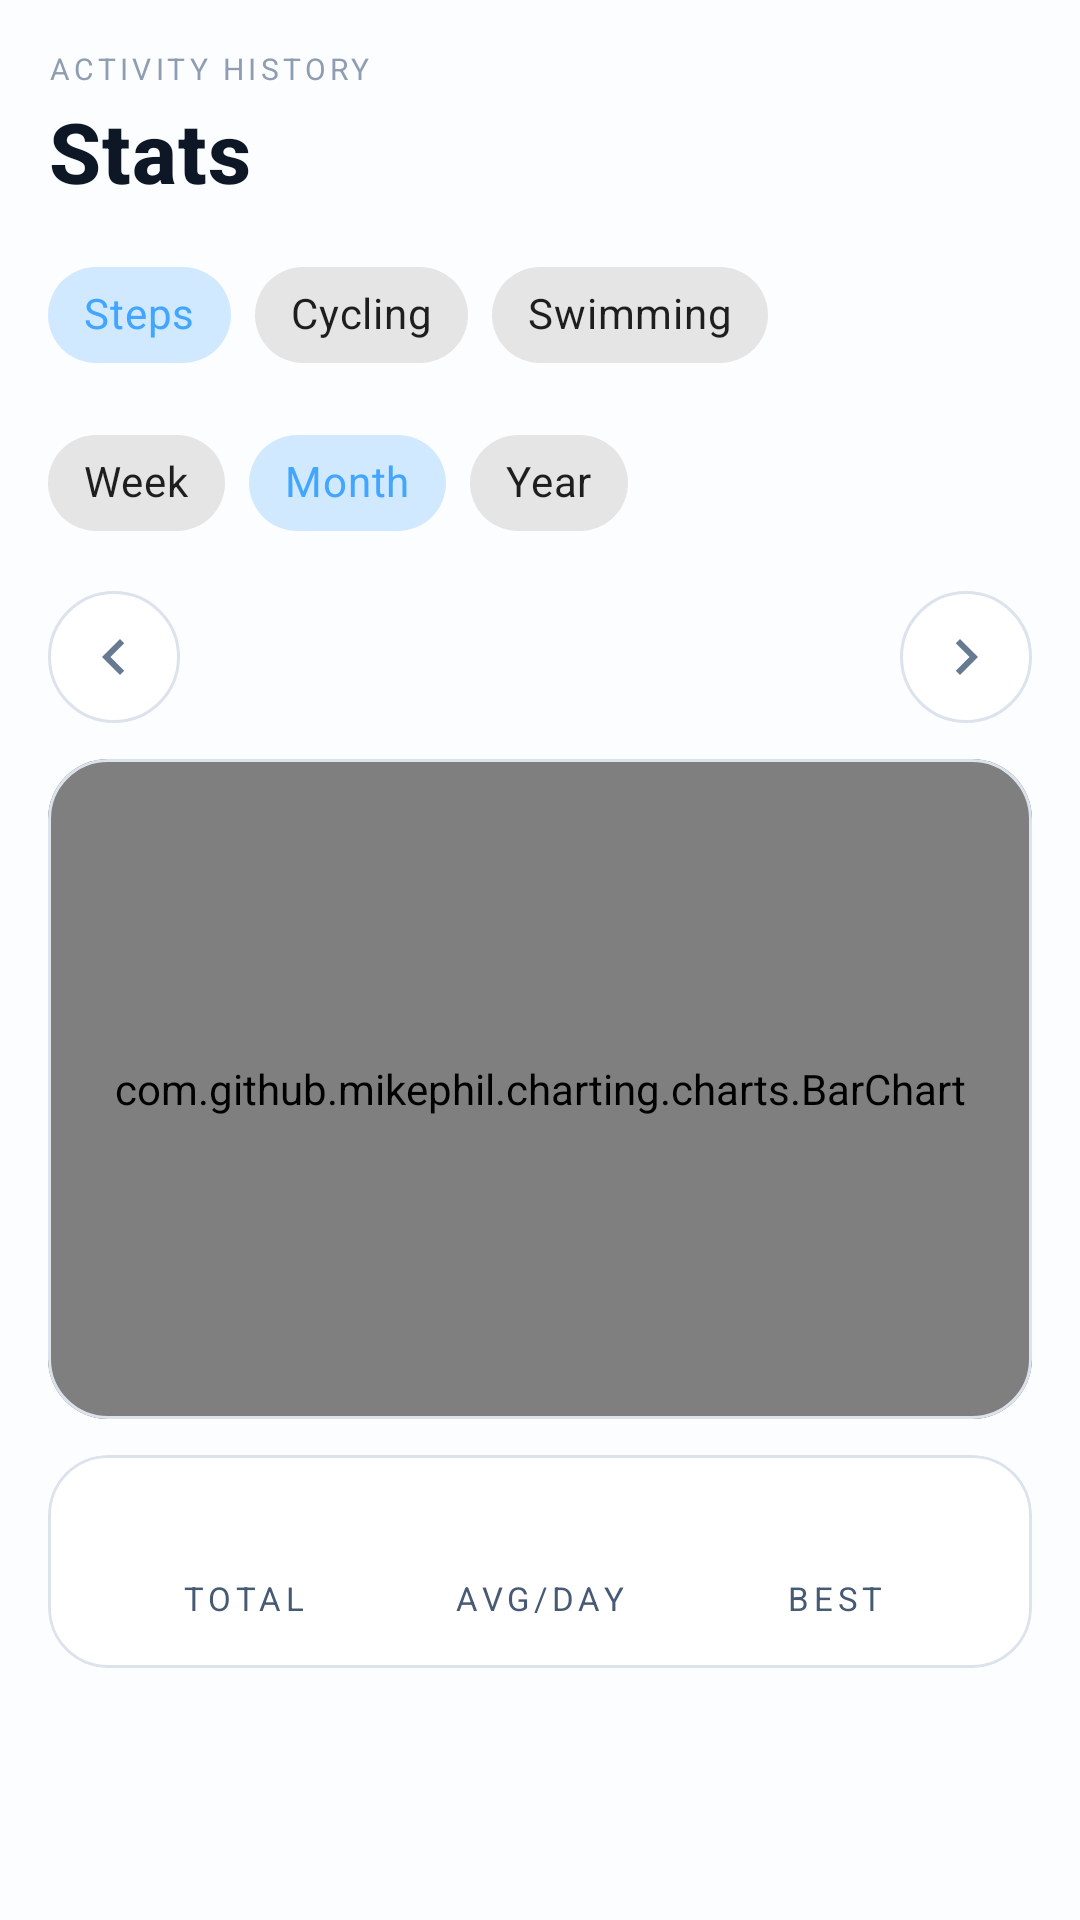

Where icons sit on this 1080 x 1920 app screen, as (x1, y1, x2, y2):
Next period: (900, 591, 1032, 723)
Previous period: (48, 591, 180, 723)
